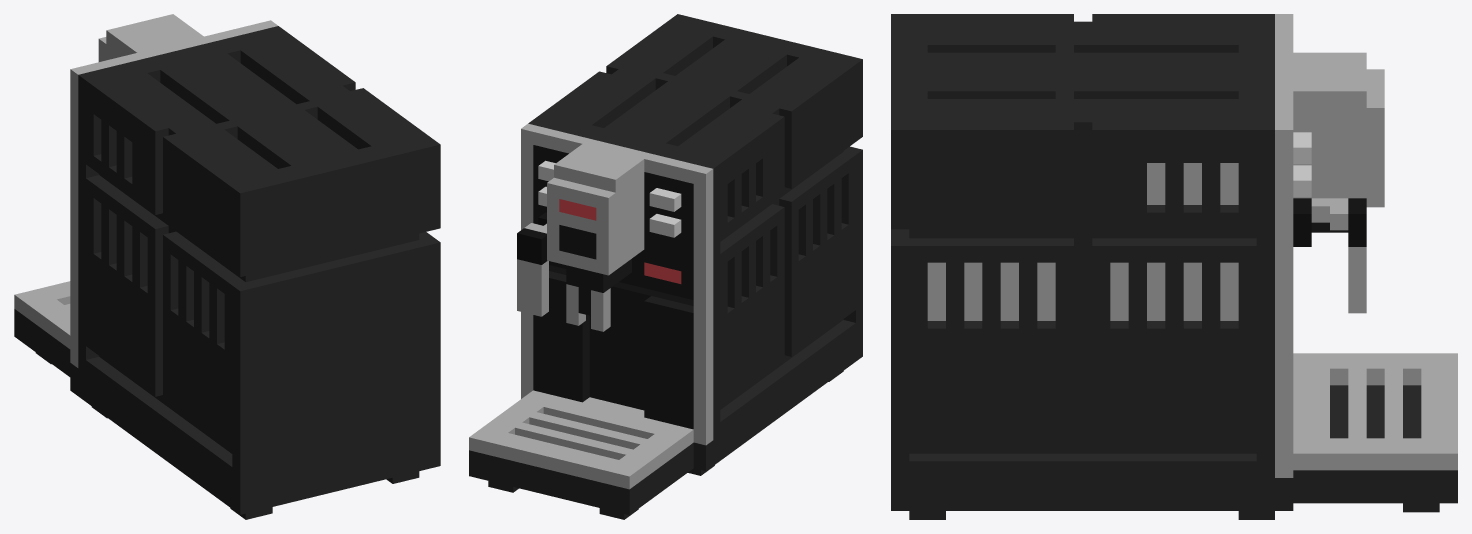
Rendered from coffee_maker.glb.
3 views of the same model, side by side, from view 1: azimuth 30°, elevation 25°; view 2: azimuth 150°, elevation 25°; view 3: azimuth 270°, elevation 25° (orthographic). The views are drawn at different scales.
Visible parts, largest first — view 1: Untitled; view 2: Untitled; view 3: Untitled.
Part boxes in pixels (box(x1,y1,x2,y2)): Untitled: box(14, 14, 440, 519); Untitled: box(469, 14, 862, 519); Untitled: box(891, 14, 1457, 519).
Size of the model in its own units: 0.45 by 0.72 by 0.93.
1 material, 1 textured.
